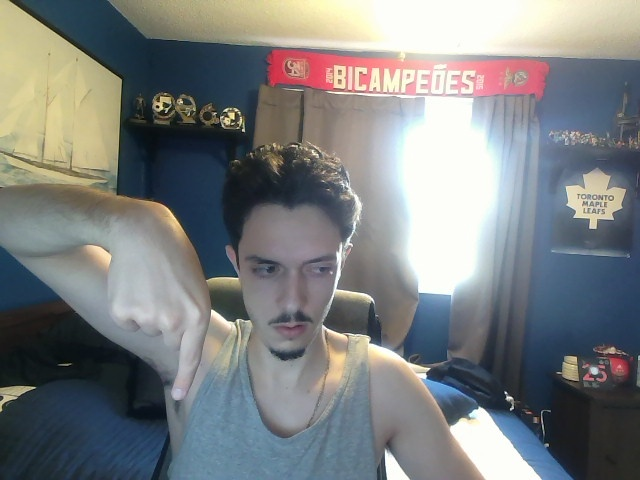Down: (105, 195, 212, 402)
